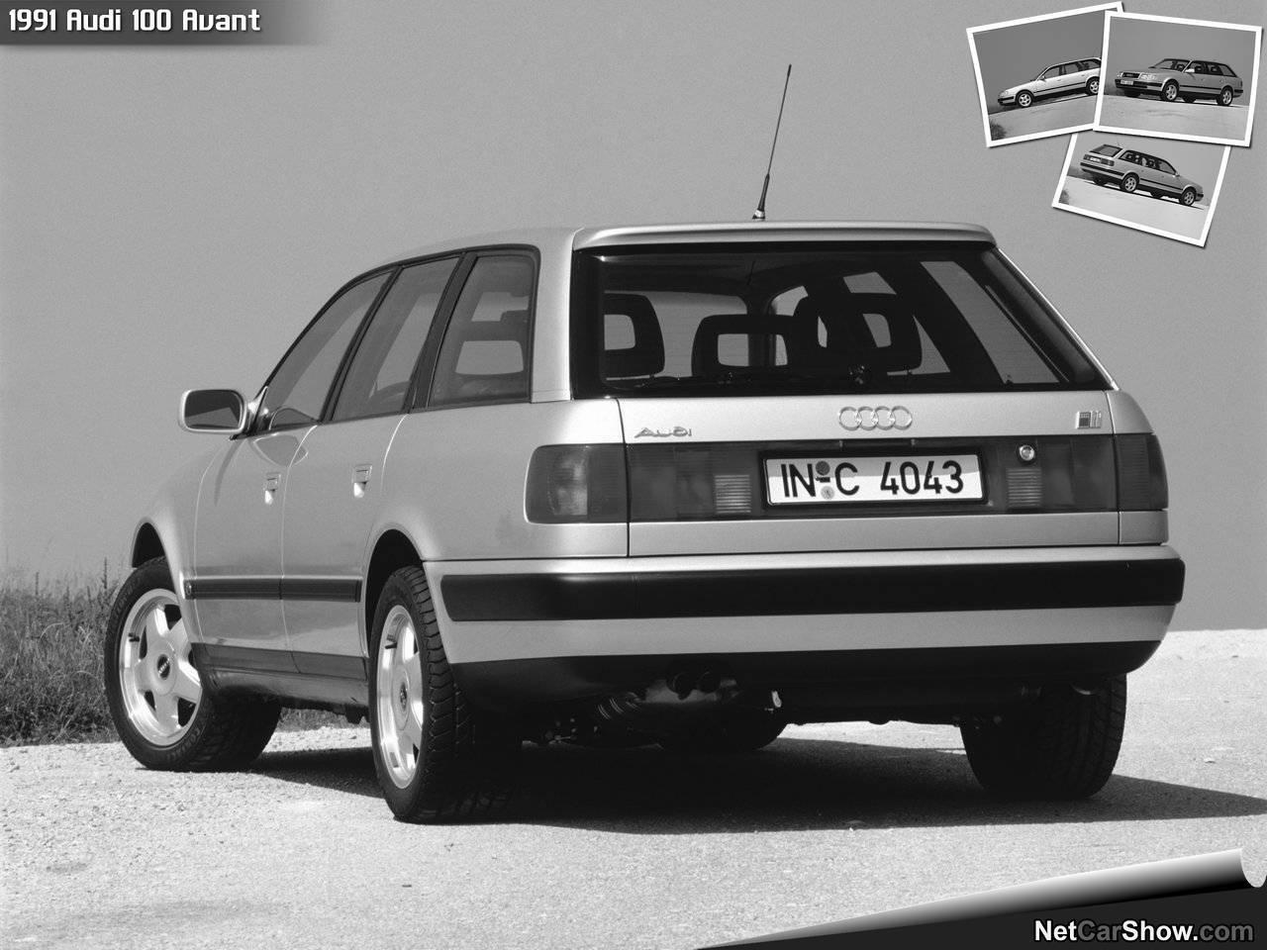car: (96, 208, 1199, 832)
